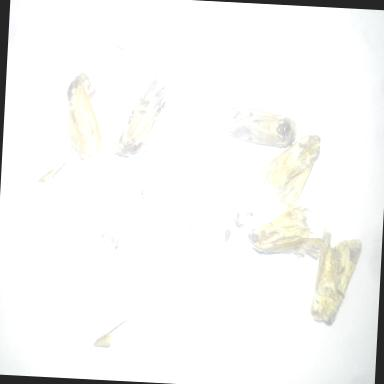abw: (249, 127, 327, 218), (306, 222, 367, 330), (109, 69, 173, 165), (231, 196, 321, 264), (55, 74, 111, 174), (220, 100, 302, 155)
